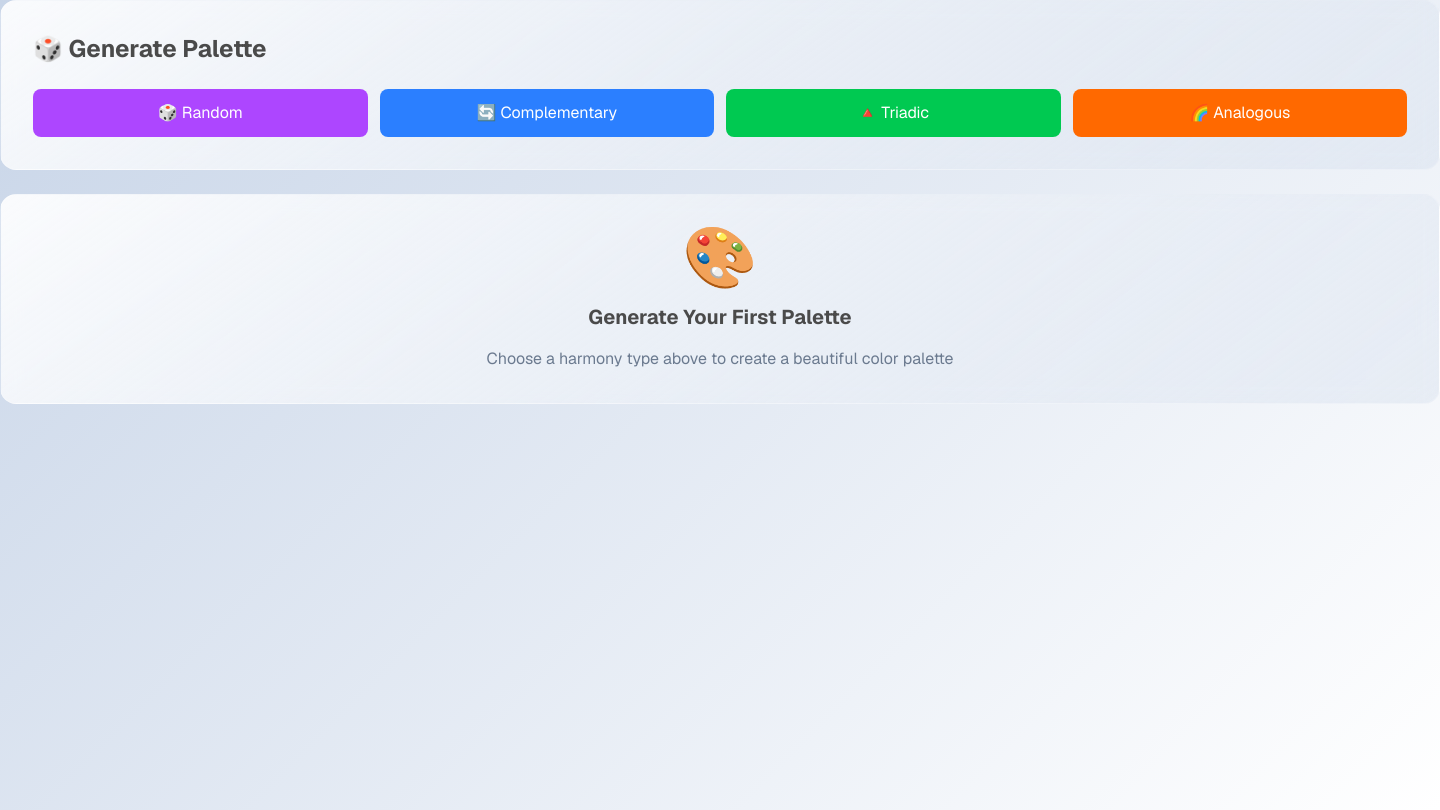
PaletteGenerator › resets locked colors when new palette is set via setPalette
Click the button "🎲 Random" at (200, 113), box 33,89 -> 368,137
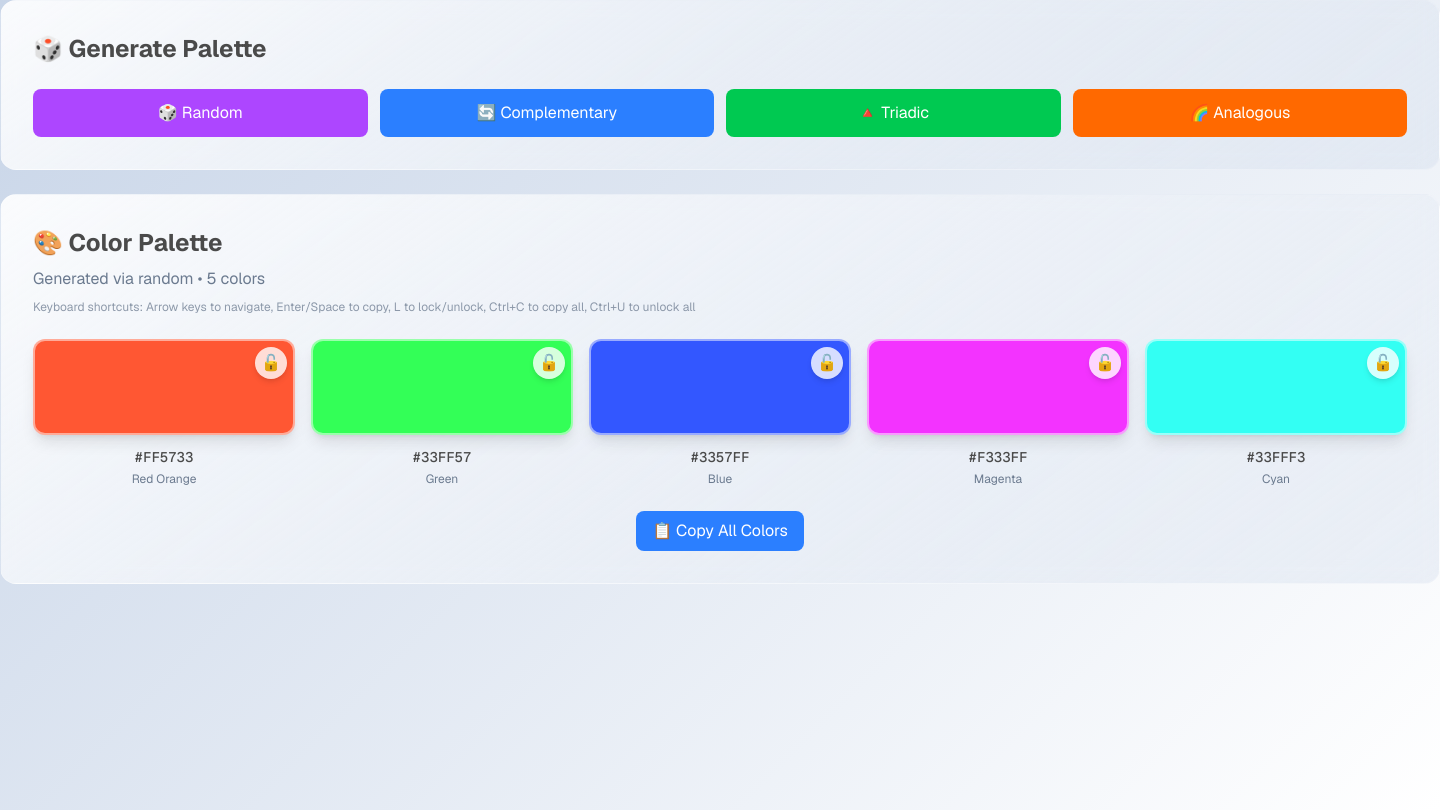
Result: the heading "🎨 Color Palette" is shown at 33,227 -> 222,258
Click the button named "Lock color" at (271, 363), box 255,347 -> 287,379
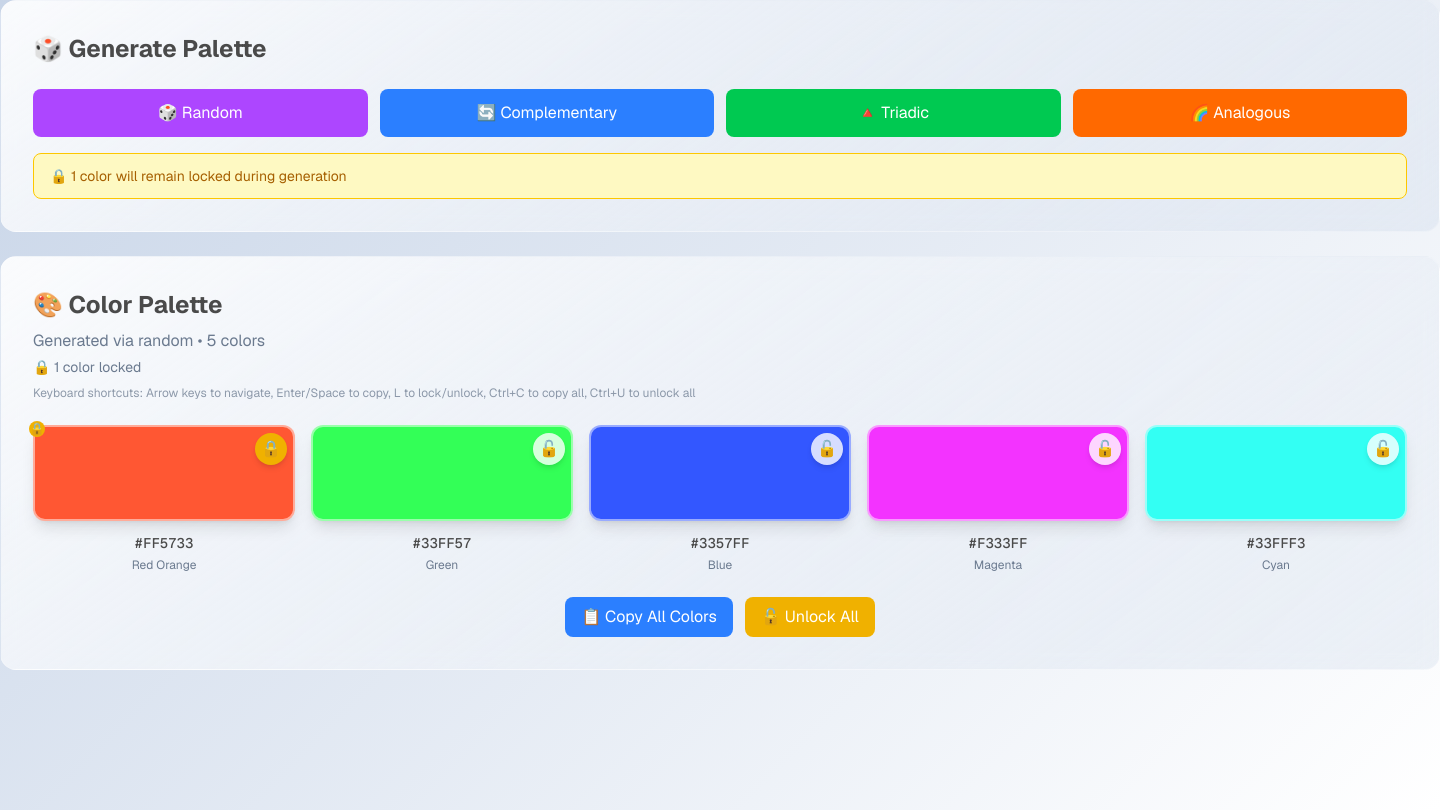
Result: the text "🔒 1 color will remain locked during generation" is shown at 50,167 -> 347,185
